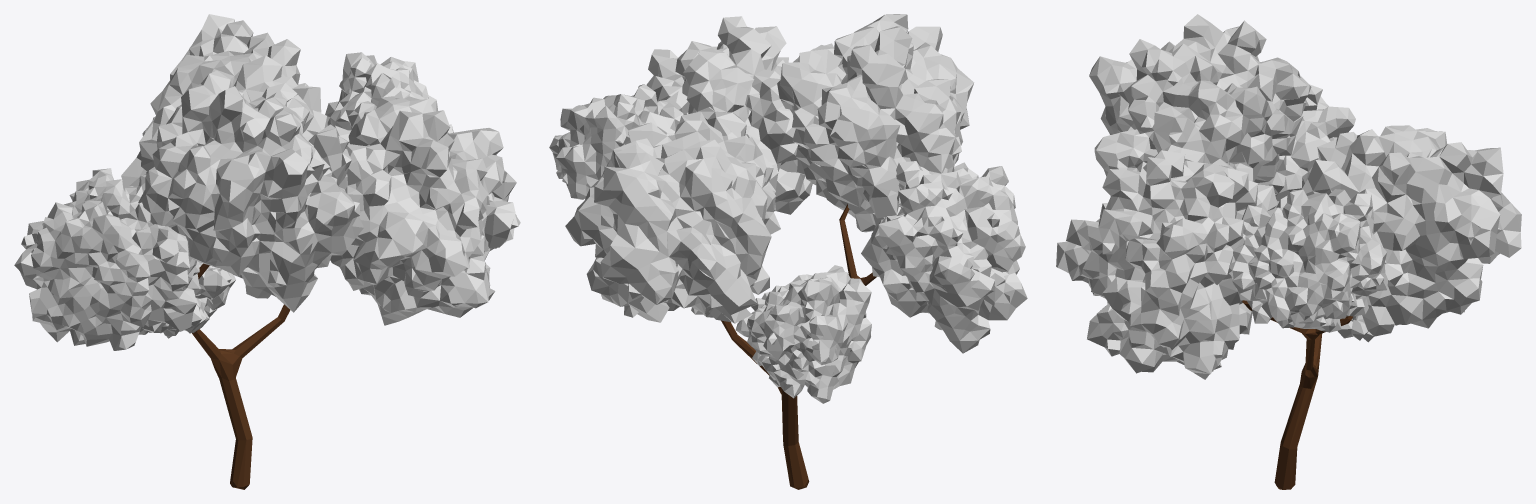
The model's file is ghibli-tree.fbx.
3 views of the same model, side by side, from view 1: azimuth 30°, elevation 25°; view 2: azimuth 150°, elevation 25°; view 3: azimuth 270°, elevation 25° (orthographic).
Parts seen in each view (by area): view 1: step3 more decimate.010, step3 more decimate.009, step3 more decimate.011, step3 more decimate.007, step3 more decimate.008, trunk, step3 more decimate.012; view 2: step3 more decimate.007, step3 more decimate.010, step3 more decimate.011, step3 more decimate.009, step3 more decimate.012, step3 more decimate.008, trunk; view 3: step3 more decimate.009, step3 more decimate.007, step3 more decimate.010, step3 more decimate.008, step3 more decimate.011, trunk, step3 more decimate.012.
Boxes of the visible parts, x1,y1,x2,y2 form: step3 more decimate.010: (138, 71, 363, 312); step3 more decimate.009: (330, 96, 520, 325); step3 more decimate.011: (14, 168, 199, 350); step3 more decimate.007: (121, 14, 321, 186); step3 more decimate.008: (325, 52, 437, 131); trunk: (192, 263, 290, 489); step3 more decimate.012: (138, 262, 235, 338); step3 more decimate.007: (565, 111, 780, 323); step3 more decimate.010: (777, 14, 973, 232); step3 more decimate.011: (861, 161, 1027, 353); step3 more decimate.009: (646, 16, 812, 214); step3 more decimate.012: (735, 265, 871, 403); step3 more decimate.008: (549, 84, 689, 199); trunk: (721, 204, 876, 489); step3 more decimate.009: (1056, 150, 1278, 379); step3 more decimate.007: (1301, 125, 1521, 336); step3 more decimate.010: (1089, 14, 1311, 196); step3 more decimate.008: (1228, 189, 1387, 332); step3 more decimate.011: (1257, 84, 1355, 202); trunk: (1242, 300, 1352, 489); step3 more decimate.012: (1337, 315, 1373, 342).
Bounding box in the file's own units: 1041 × 1002 × 946.
